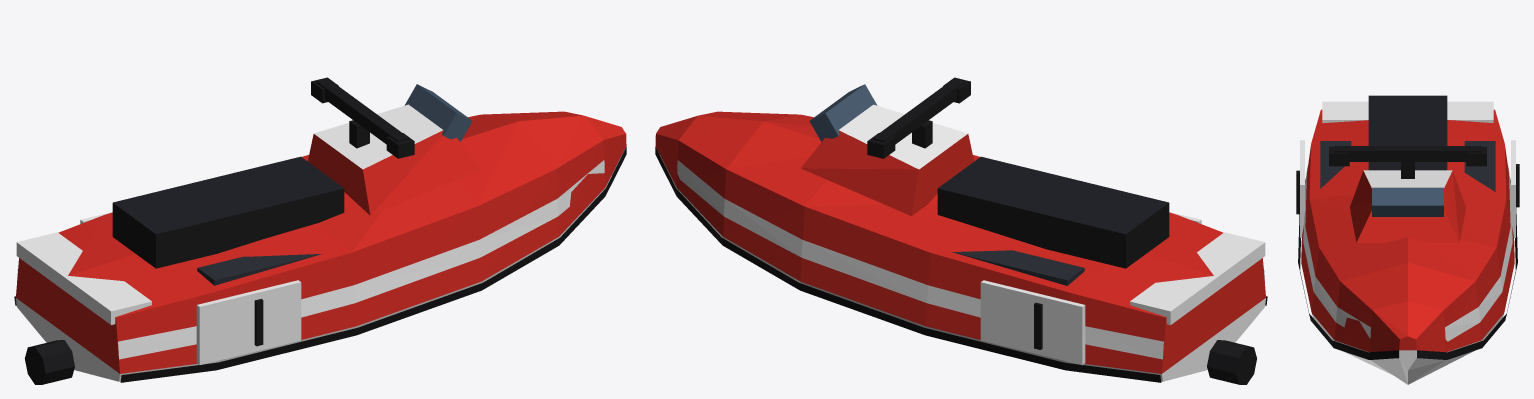
Rendered from jetski_body.obj.
3 views of the same model, side by side, from view 1: azimuth 30°, elevation 25°; view 2: azimuth 150°, elevation 25°; view 3: azimuth 270°, elevation 25° (orthographic). The views are drawn at different scales.
Visible parts, largest first — view 1: jetski_body; view 2: jetski_body; view 3: jetski_body.
Boxes of the visible parts, <box> form: jetski_body: <box>14,77,626,384</box>; jetski_body: <box>655,77,1267,384</box>; jetski_body: <box>1296,95,1519,384</box>.
Size of the model in its own units: 3.58 by 1.85 by 1.3.
